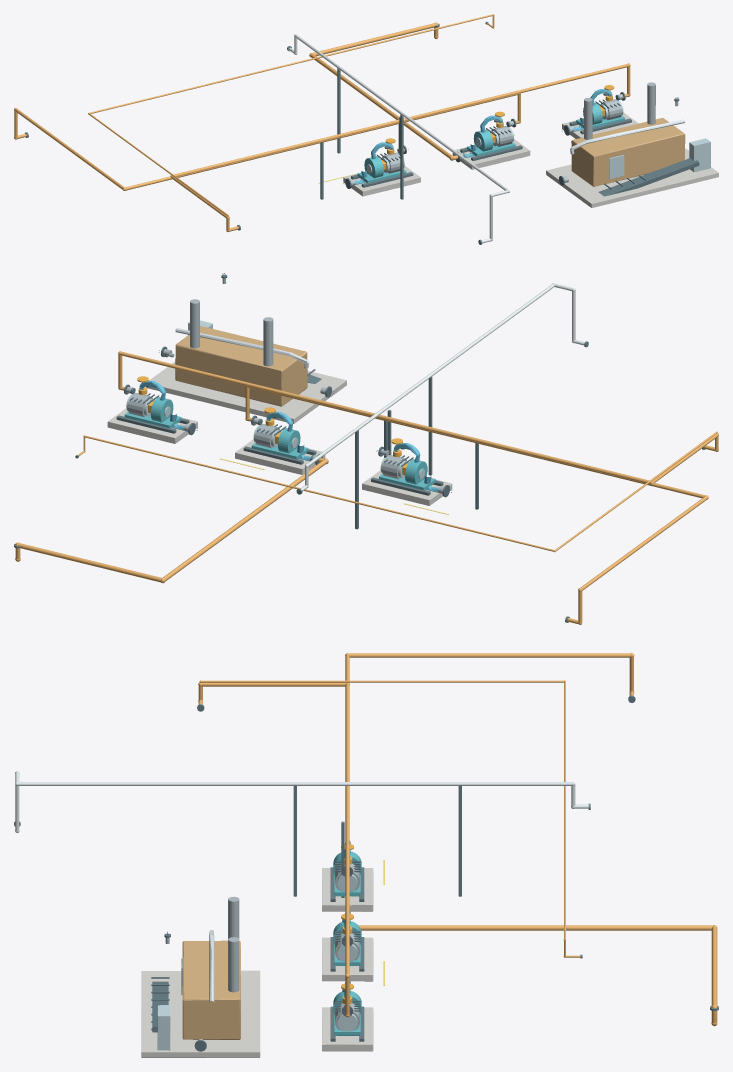
3 views of the same model, one above another, from view 1: azimuth 30°, elevation 25°; view 2: azimuth 150°, elevation 25°; view 3: azimuth 270°, elevation 25° (orthographic). The views are drawn at different scales.
Visible parts, largest first — view 1: render-batch-10, render-batch-6, render-batch-7, render-batch-0, render-batch-4, render-batch-2, render-batch-5, render-batch-9, render-batch-3, render-batch-1, render-batch-8, render-batch-11; view 2: render-batch-10, render-batch-6, render-batch-7, render-batch-4, render-batch-2, render-batch-0, render-batch-9, render-batch-3, render-batch-1, render-batch-5, render-batch-8; view 3: render-batch-7, render-batch-10, render-batch-6, render-batch-9, render-batch-0, render-batch-4, render-batch-5, render-batch-2, render-batch-3.
Boxes of the visible parts, box(x1,y1,x2,y2) form: render-batch-10: box(14, 14, 630, 231); render-batch-6: box(571, 118, 685, 186); render-batch-7: box(343, 112, 718, 207); render-batch-0: box(343, 92, 699, 196); render-batch-4: box(350, 82, 678, 185); render-batch-2: box(357, 103, 624, 182); render-batch-5: box(366, 100, 710, 179); render-batch-9: box(288, 34, 509, 243); render-batch-3: box(24, 21, 619, 244); render-batch-1: box(355, 89, 612, 184); render-batch-8: box(570, 119, 684, 154); render-batch-11: box(381, 85, 614, 169); render-batch-10: box(15, 351, 718, 624); render-batch-6: box(175, 326, 307, 406); render-batch-7: box(107, 361, 452, 505); render-batch-4: box(126, 278, 443, 493); render-batch-2: box(124, 397, 435, 490); render-batch-0: box(116, 273, 451, 497); render-batch-9: box(300, 283, 584, 491); render-batch-3: box(14, 341, 705, 622); render-batch-1: box(139, 380, 438, 492); render-batch-5: box(126, 320, 424, 479); render-batch-8: box(175, 328, 309, 368); render-batch-7: box(141, 868, 373, 1057); render-batch-10: box(198, 653, 717, 1026); render-batch-6: box(182, 940, 240, 1039); render-batch-9: box(15, 771, 588, 832); render-batch-0: box(151, 861, 364, 1051); render-batch-4: box(165, 864, 359, 1040); render-batch-5: box(157, 874, 357, 1050); render-batch-2: box(333, 851, 361, 1035); render-batch-3: box(14, 695, 718, 1010).
Size of the model in its own units: 43.5 by 7.21 by 38.43.
